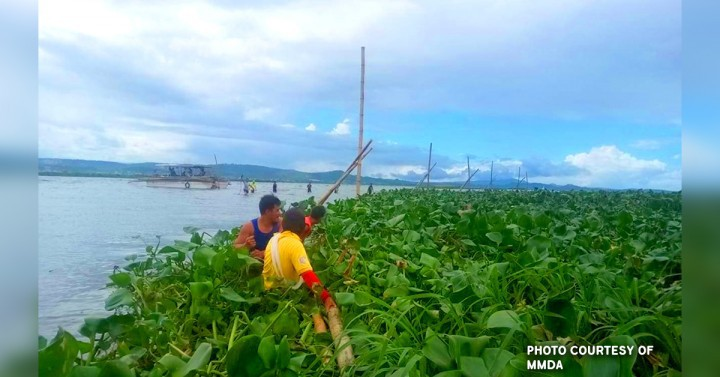water_hyacinth: (39, 269, 252, 376)
